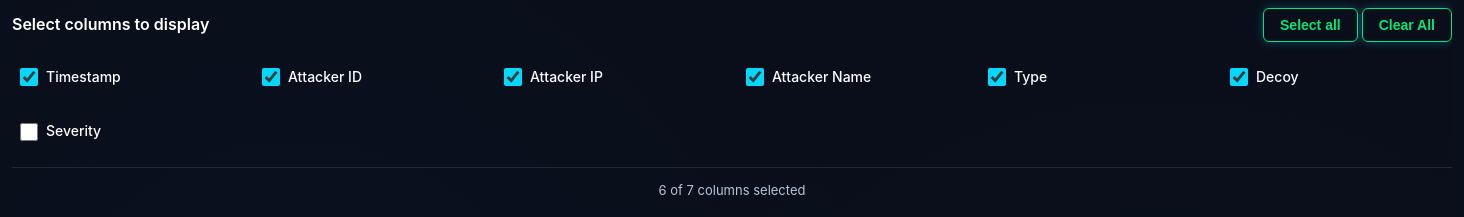
Test: ColumnSelector › selects all columns when "Select all" button is clicked
This screenshot has width=1464, height=217.
Expected: the checkbox named "Toggle Severity" is not checked, left=20, top=123, right=38, bottom=141
// Click select all
Click the button with aria-label "Select all columns".
click(1310, 25)  # box left=1263, top=8, right=1358, bottom=42
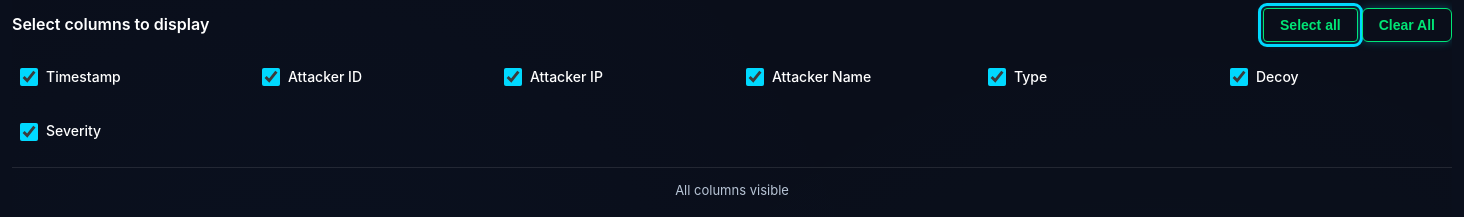
Expected: the checkbox named "Toggle Timestamp" is checked, left=20, top=68, right=38, bottom=86
Expected: the checkbox named "Toggle Severity" is checked, left=20, top=123, right=38, bottom=141
Expected: the text "All columns visible" is shown, left=12, top=167, right=1452, bottom=201
